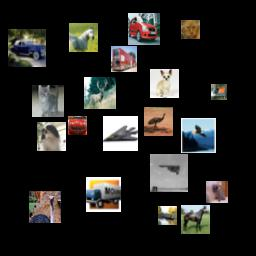airplane: (150, 154, 188, 192), (103, 116, 138, 151)
automobile: (8, 29, 46, 67), (128, 13, 160, 45), (68, 116, 87, 135)
bird: (181, 118, 216, 153), (29, 191, 61, 223), (144, 107, 173, 136)
cat: (32, 85, 64, 117), (206, 181, 228, 203), (181, 20, 200, 39)
deer: (84, 77, 116, 109)
dog: (37, 122, 66, 151), (150, 69, 179, 98)
ship: (158, 206, 177, 225)
truck: (86, 177, 121, 212), (111, 46, 137, 72), (211, 84, 227, 100)
